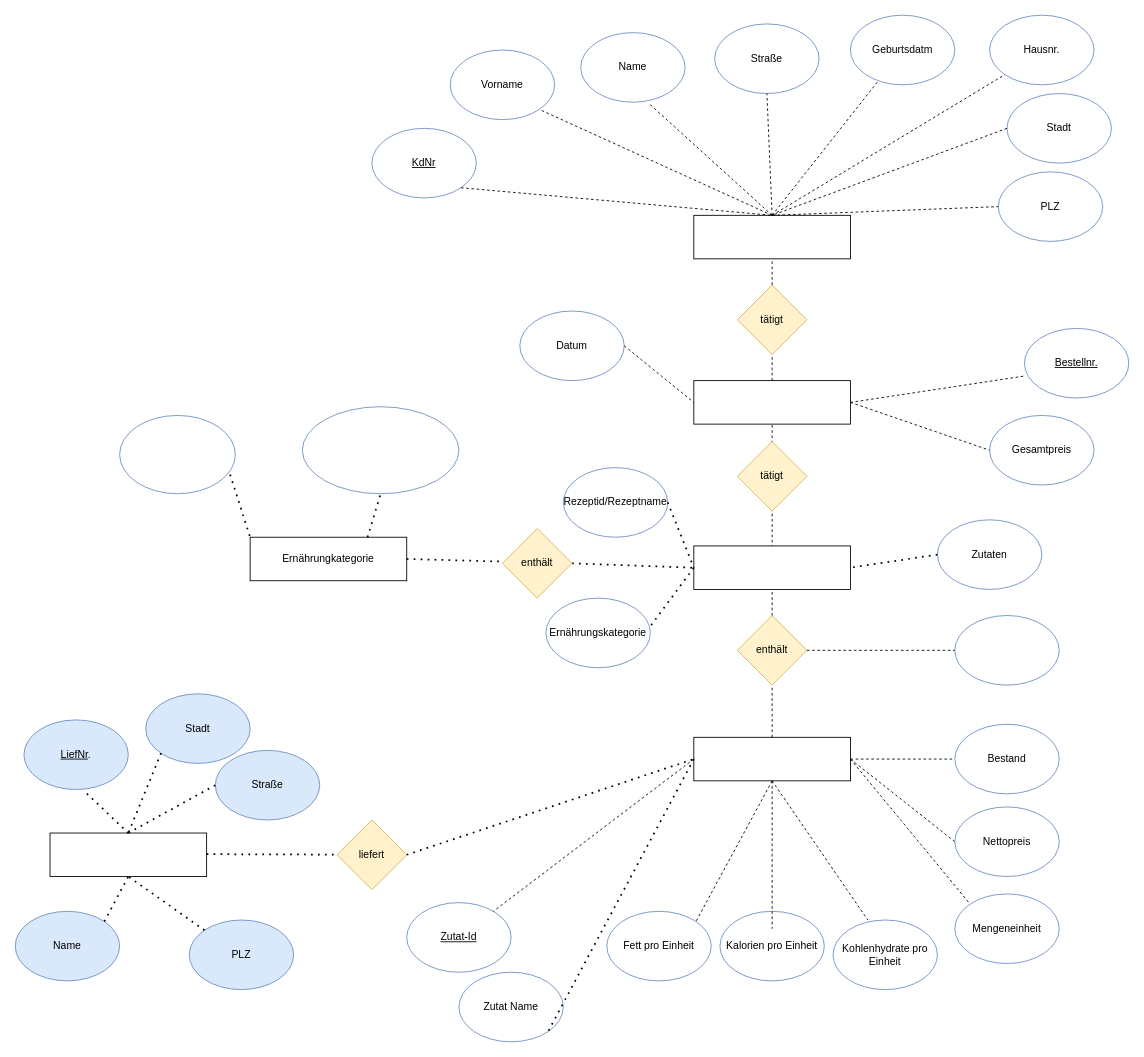
Some shapes in this 1144 by 1057 pixel diagram are drawn without their labels. The centre of each missing label's shape, as x and y in pixels:
"Bestellung" goes at point (771, 402).
"Ernährungskategorieid" goes at point (177, 454).
"Ernährungskategorienname" goes at point (380, 450).
"Kunde" goes at point (771, 236).
"Lieferant" goes at point (128, 854).
"Menge" goes at point (1006, 650).
"Rezepte" goes at point (771, 567).
"Zutat" goes at point (771, 758).
